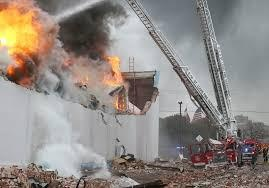fire: (0, 0, 44, 74), (103, 52, 130, 113)
